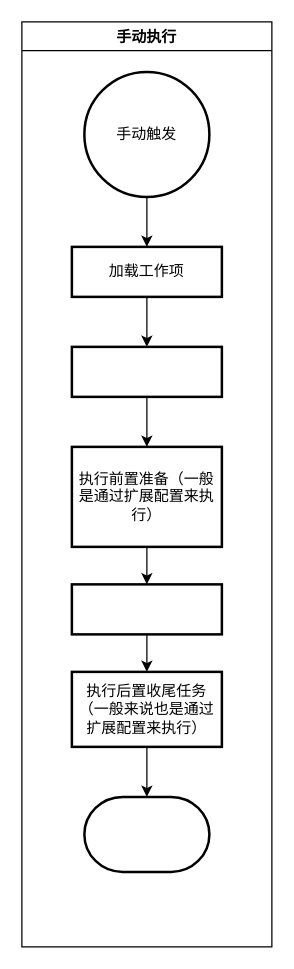
The diagram is 294 pixels wide and 969 high, and some of its shapes have lost their labels. The centre of each missing label's shape, as x and y in pixels:
加载扩展配置: pixel 146 371
执行脚本: pixel 146 608
结束: pixel 146 833
